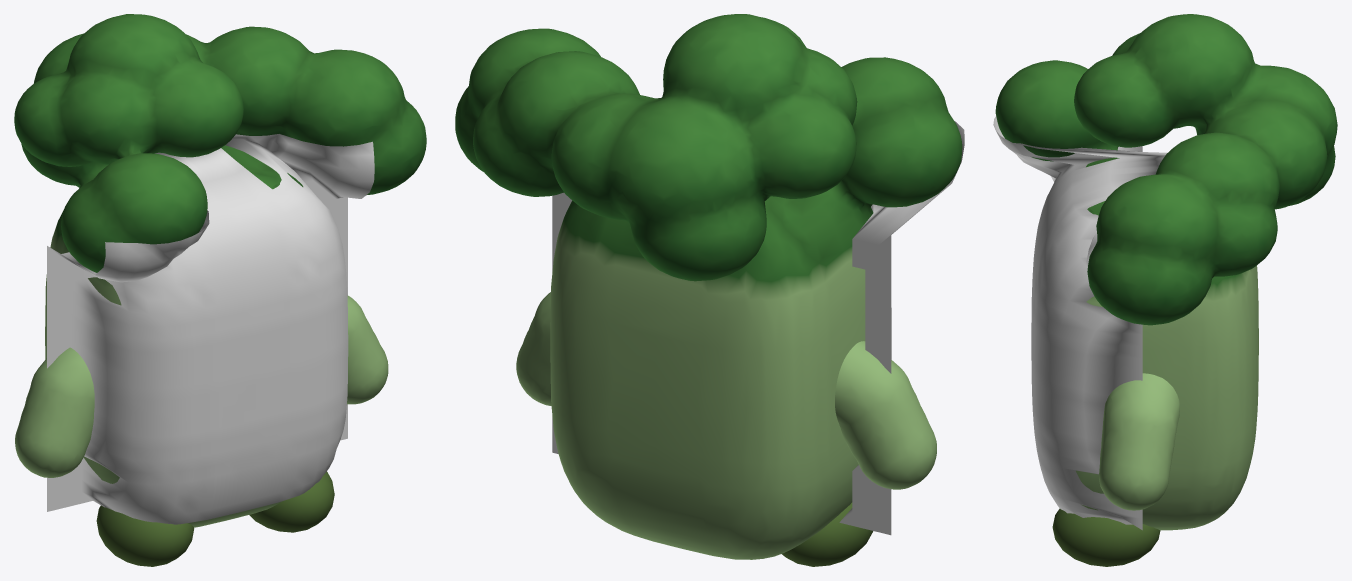
Rendered from folk2_sprout.glb.
3 views of the same model, side by side, from view 1: azimuth 30°, elevation 25°; view 2: azimuth 150°, elevation 25°; view 3: azimuth 270°, elevation 25° (orthographic). The views are drawn at different scales.
Parts seen in each view (by area): view 1: sprout_face, sprout_body, sprout_arm_l, sprout_foot_l, sprout_arm_r, sprout_foot_r; view 2: sprout_body, sprout_arm_l, sprout_face, sprout_arm_r, sprout_foot_l; view 3: sprout_body, sprout_face, sprout_arm_r, sprout_foot_r.
Part boxes in pixels (x1,y1,x2,y2): sprout_face: [47, 134, 374, 524]; sprout_body: [14, 14, 426, 527]; sprout_arm_l: [15, 347, 94, 477]; sprout_foot_l: [96, 505, 194, 566]; sprout_arm_r: [347, 295, 388, 404]; sprout_foot_r: [249, 471, 334, 532]; sprout_body: [455, 14, 962, 559]; sprout_arm_l: [835, 341, 936, 489]; sprout_face: [552, 121, 964, 535]; sprout_arm_r: [516, 292, 551, 405]; sprout_foot_l: [782, 502, 873, 566]; sprout_body: [995, 14, 1337, 530]; sprout_face: [993, 116, 1167, 530]; sprout_arm_r: [1099, 373, 1179, 510]; sprout_foot_r: [1052, 508, 1160, 566].
Size of the model in its own units: 0.4402 by 0.5179 by 0.3305.
